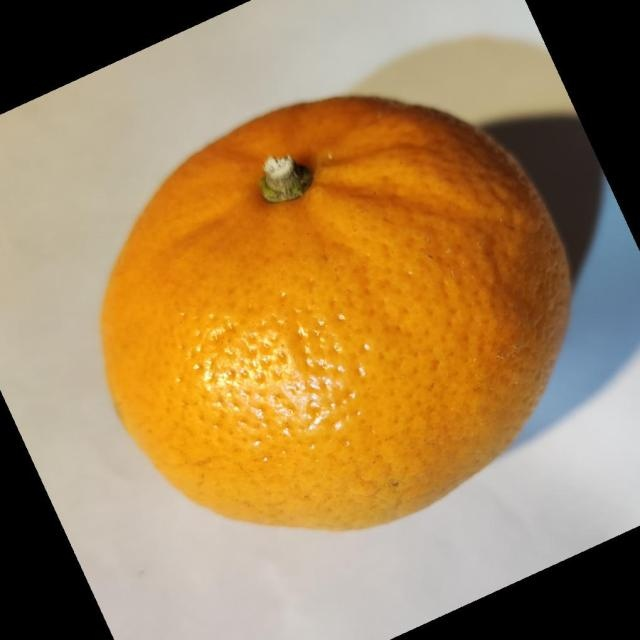agrume: (98, 93, 573, 532)
